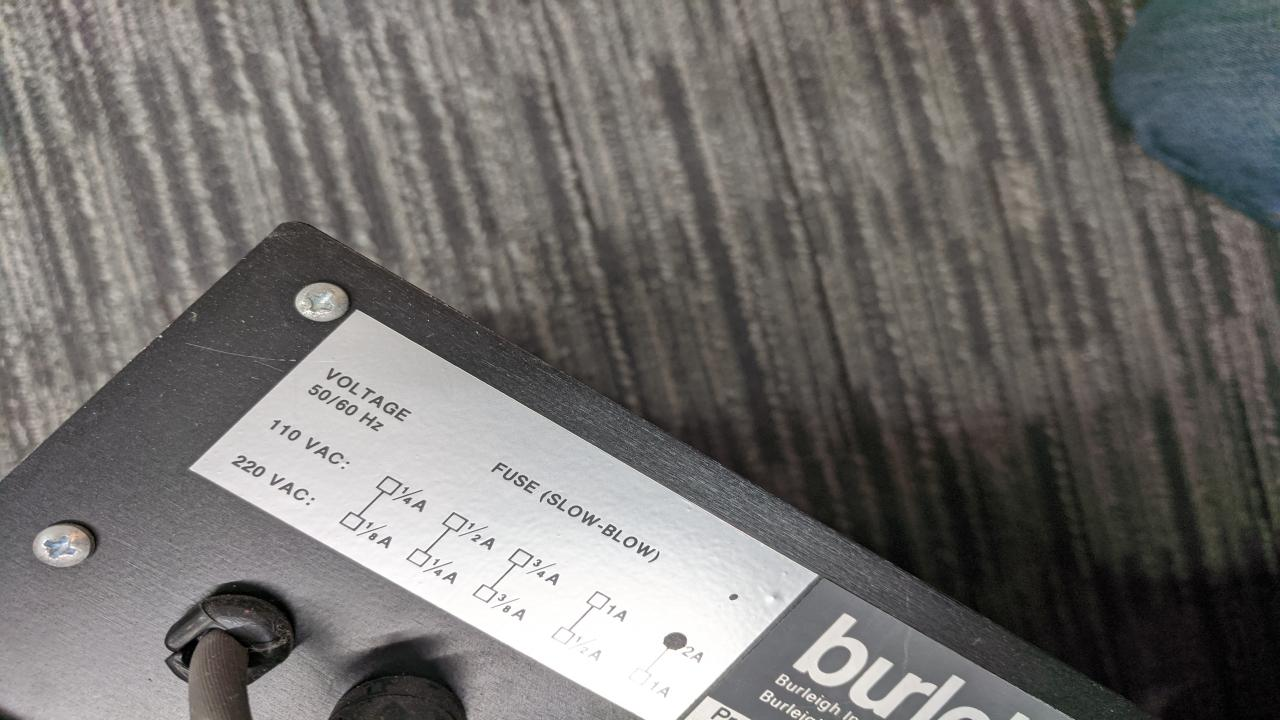CRS: (29, 525, 100, 567), (291, 280, 353, 322)
